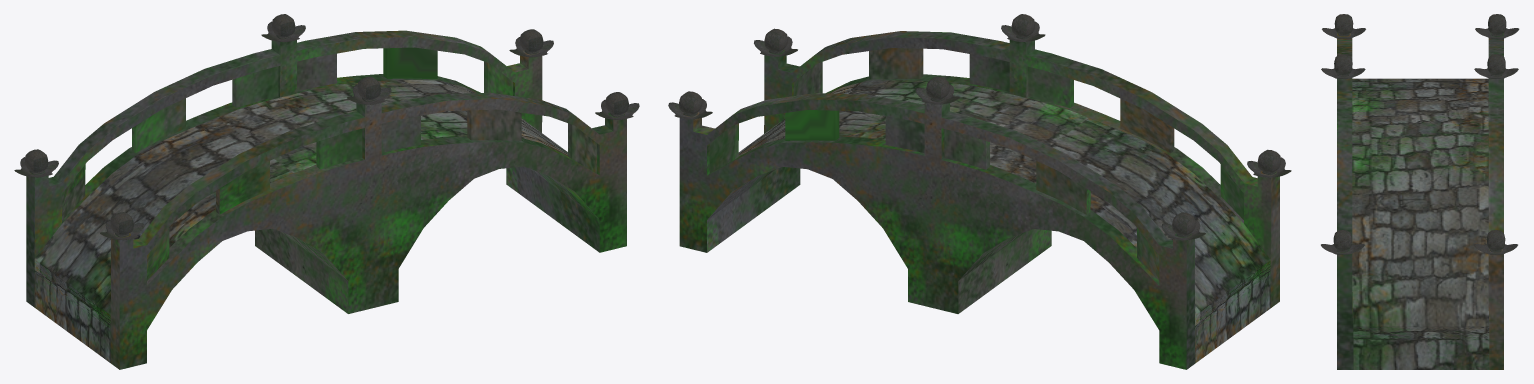
The model's file is bridge.2ca7b2cf.glb.
3 renders of one model, left to right at view 1: azimuth 30°, elevation 25°; view 2: azimuth 150°, elevation 25°; view 3: azimuth 270°, elevation 25°, orthographic. The views are drawn at different scales.
Parts seen in each view (by area): view 1: StoneBridge; view 2: StoneBridge; view 3: StoneBridge.
Boxes of the visible parts, box(x1,y1,x2,y2) form: StoneBridge: box(14, 14, 639, 369); StoneBridge: box(668, 14, 1291, 369); StoneBridge: box(1321, 14, 1519, 369).
Bounding box in the file's own units: 179 × 72.35 × 64.13.
Materials: 1 (1 with a texture image).
